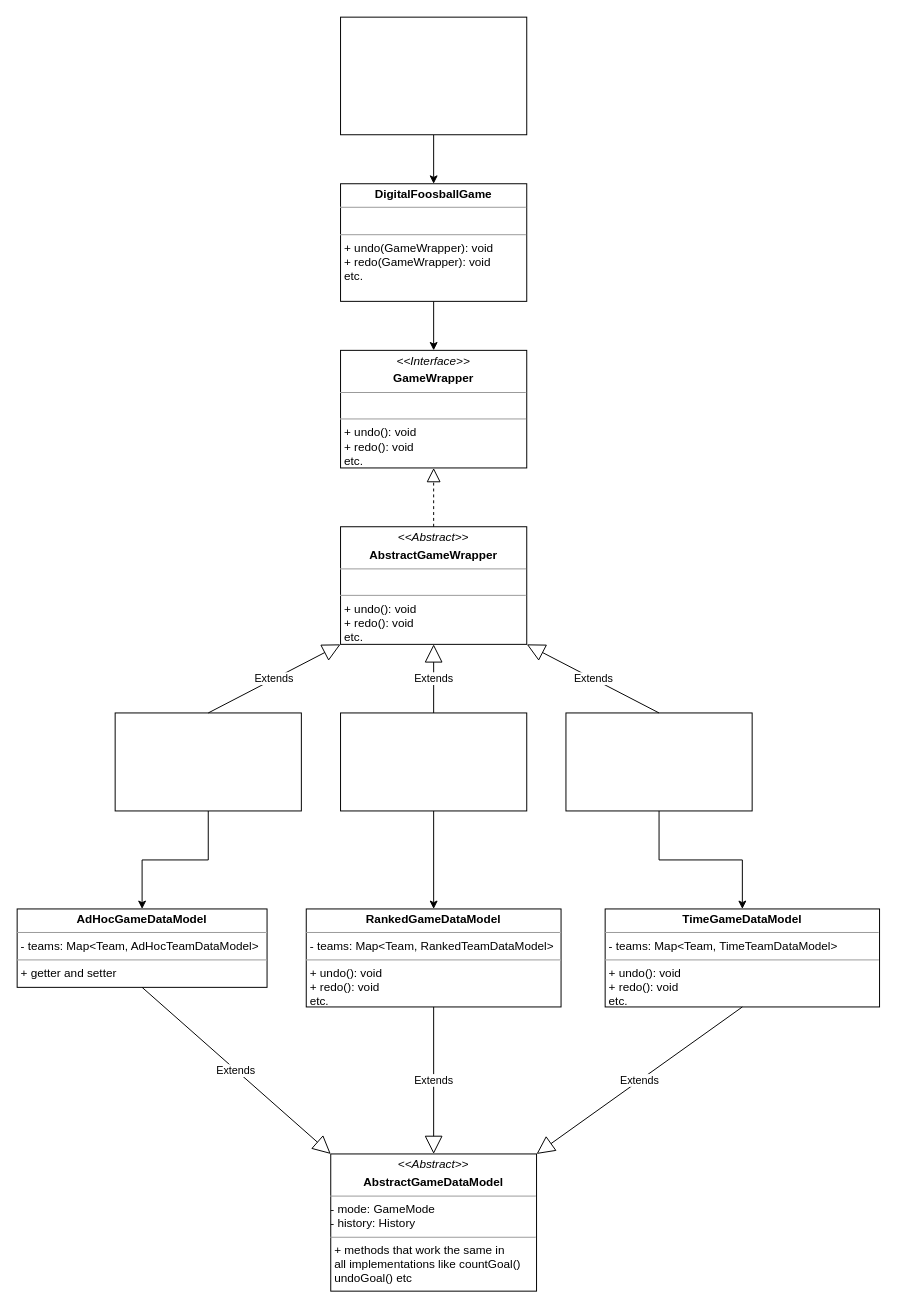
This 897x1308 diagram has some shape labels left out. The shapes that lost their labels are listed below. From the top down, each one's box as (x1, y1, x2, y2) in pixels, then its label:
(340, 16, 527, 135): GameController + undo(): void + redo(): void etc.
(114, 712, 301, 811): AdHocGameWrapper - AdHocGameDataModel + undo(): void + redo(): void etc.
(340, 712, 527, 811): RankedGameWrapper - RankedGameDataModel + undo(): void + redo(): void etc.
(565, 712, 752, 811): TimeGameWrapper - TimeGameDataModel + undo(): void + redo(): void etc.
